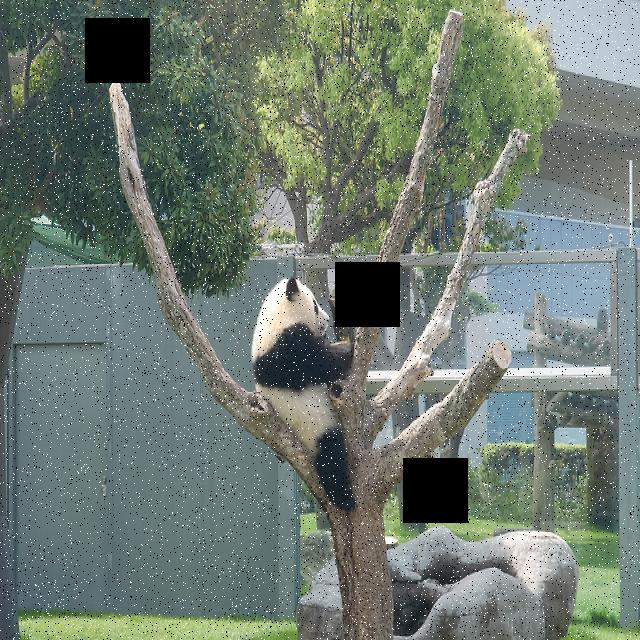Bear: (247, 259, 368, 520)
